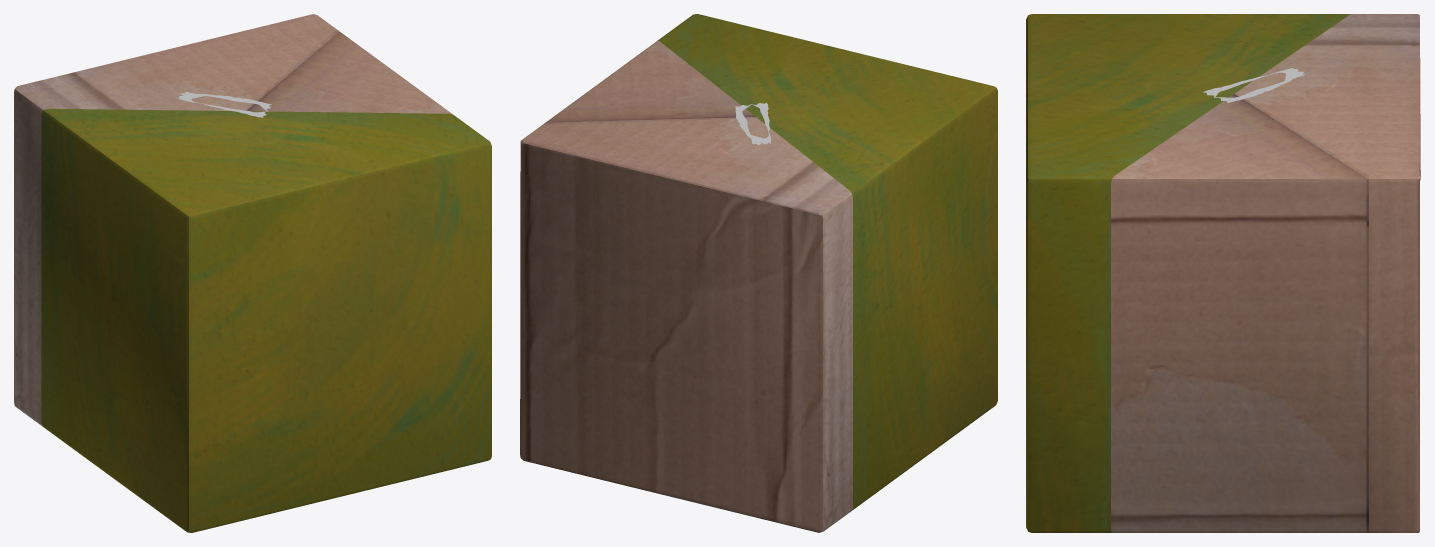
Rendered from FOREST_GROUND_003.obj.
3 renders of one model, left to right at view 1: azimuth 30°, elevation 25°; view 2: azimuth 150°, elevation 25°; view 3: azimuth 270°, elevation 25°, orthographic. The views are drawn at different scales.
Parts seen in each view (by area): view 1: FOREST_GROUND_003; view 2: FOREST_GROUND_003; view 3: FOREST_GROUND_003.
Boxes of the visible parts, x1,y1,x2,y2 form: FOREST_GROUND_003: [14, 14, 491, 532]; FOREST_GROUND_003: [520, 14, 997, 532]; FOREST_GROUND_003: [1026, 14, 1420, 532].
Size of the model in its own units: 1 by 1.01 by 1.
